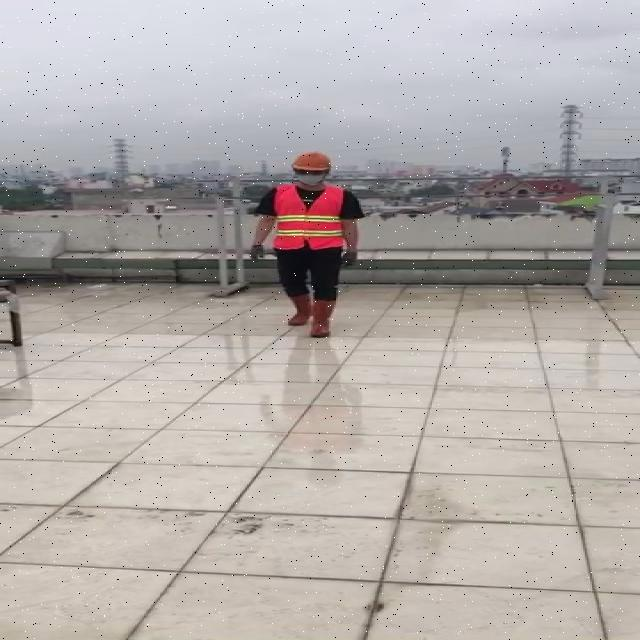Hard_hat: (288, 148, 338, 176)
Person: (251, 153, 370, 411)
Vest: (274, 185, 349, 253)
